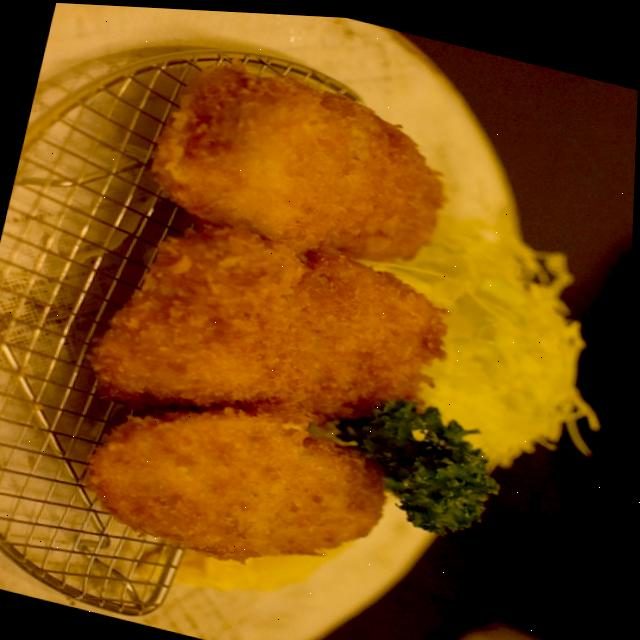牛肉菜式: (45, 19, 524, 610)
